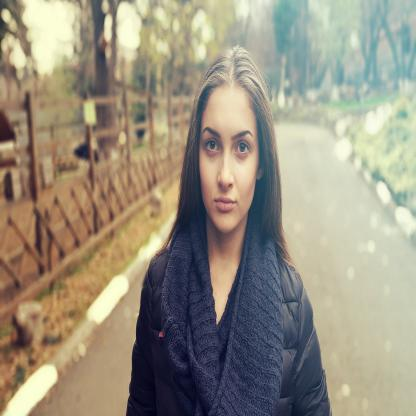Eye: (233, 138, 252, 158), (203, 135, 221, 156)
Mouth: (213, 194, 239, 212)
Nose: (218, 153, 234, 192)
